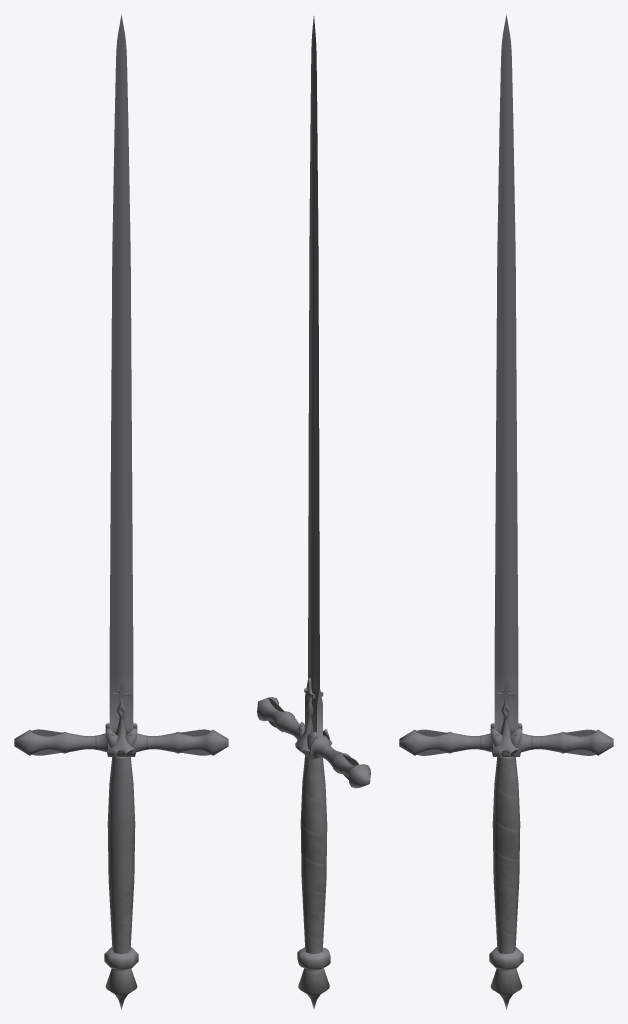
The model's file is w_estoc_rapier__estoc-sword.glb.
3 renders of one model, left to right at view 1: azimuth 90°, elevation 25°; view 2: azimuth 210°, elevation 25°; view 3: azimuth 270°, elevation 25°, orthographic.
Visible parts, largest first — view 1: Object_3; view 2: Object_3; view 3: Object_3.
Part boxes in pixels (x1=…): Object_3: x1=14, y1=14, x2=228, y2=1009; Object_3: x1=257, y1=16, x2=370, y2=1008; Object_3: x1=399, y1=14, x2=613, y2=1009.
Size of the model in its own units: 0.0932 by 2.84 by 0.554.
Materials: 2 (2 with a texture image).
